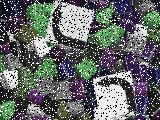Left: (93, 70, 137, 120)
Right: (44, 1, 94, 52)
